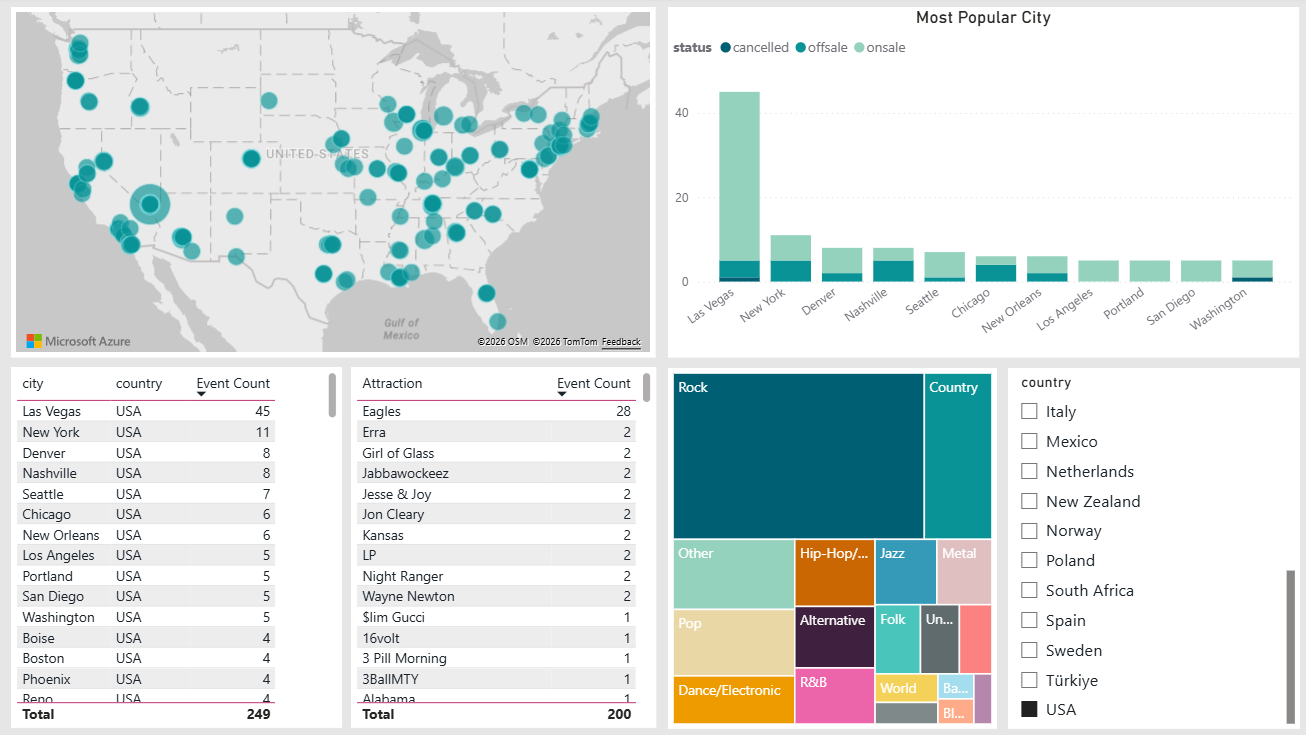

What the dashboard file says about the page in this screenshot:
{"tool":"powerbi","page":{"name":"Event Coverage","canvas":[1280,720],"ordinal":1},"visuals":[{"type":"azureMap","fields":{"X":["dim_venues.longitude"],"Y":["dim_venues.latitude"],"Size":["CountNonNull(fct_events.event_id)"],"Series":["fct_events.segment Hierarchy.segment"]},"box":[17.5,9.7,627.4,341.4],"z":0},{"type":"treemap","fields":{"Group":["fct_events.segment Hierarchy.segment","fct_events.segment Hierarchy.genre","fct_events.segment Hierarchy.subgenre"],"Values":["_measures.Event Count"]},"box":[656.5,360.9,320,351.1],"z":1000},{"type":"tableEx","fields":{"Values":["dim_venues.city","dim_country.country","_measures.Event Count"]},"box":[17.5,359.9,321.9,351.1],"z":2000},{"type":"columnChart","title":"Most Popular City","fields":{"Category":["dim_venues.city"],"Y":["_measures.Event Count"],"Series":["fct_events.status"]},"box":[656.5,9.7,613.7,341.4],"z":3000},{"type":"slicer","fields":{"Values":["dim_country.country"]},"box":[987.2,360.9,284,351.1],"z":4000},{"type":"tableEx","fields":{"Values":["dim_attractions.name","_measures.Event Count"]},"box":[348.2,359.9,296.7,351.1],"z":5000}]}

Visuals, with their boxes in screenshot pixels (x1, y1, x2, y2), scaled from the page's 1280x720 canvas onto the 1306x735 screenshot:
azureMap - dim_venues.longitude x dim_venues.latitude: 18,10,658,358
treemap - fct_events.segment Hierarchy.segment x fct_events.segment Hierarchy.genre: 670,368,996,727
tableEx - dim_venues.city x dim_country.country: 18,367,346,726
"Most Popular City" columnChart: 670,10,1296,358
slicer - dim_country.country: 1007,368,1297,727
tableEx - dim_attractions.name x _measures.Event Count: 355,367,658,726
